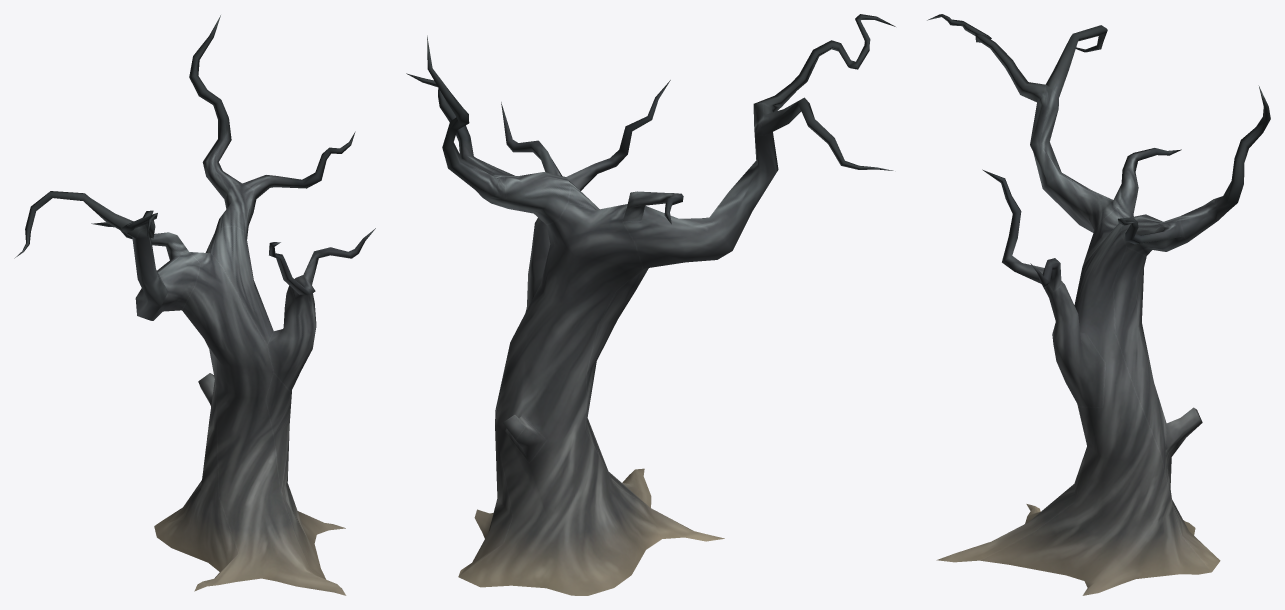
Rendered from Tree_3.FBX.
3 renders of one model, left to right at view 1: azimuth 30°, elevation 25°; view 2: azimuth 150°, elevation 25°; view 3: azimuth 270°, elevation 25°, orthographic. The views are drawn at different scales.
Visible parts, largest first — view 1: Tree_3; view 2: Tree_3; view 3: Tree_3.
Boxes of the visible parts, x1,y1,x2,y2 form: Tree_3: (14, 15, 375, 595); Tree_3: (406, 14, 895, 595); Tree_3: (927, 14, 1270, 595).
Size of the model in its own units: 1091 by 1294 by 826.
